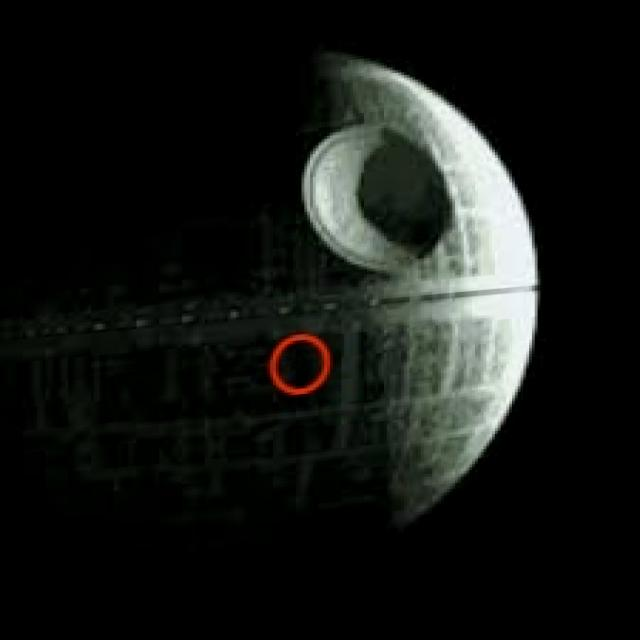deathStar: (4, 43, 544, 611)
